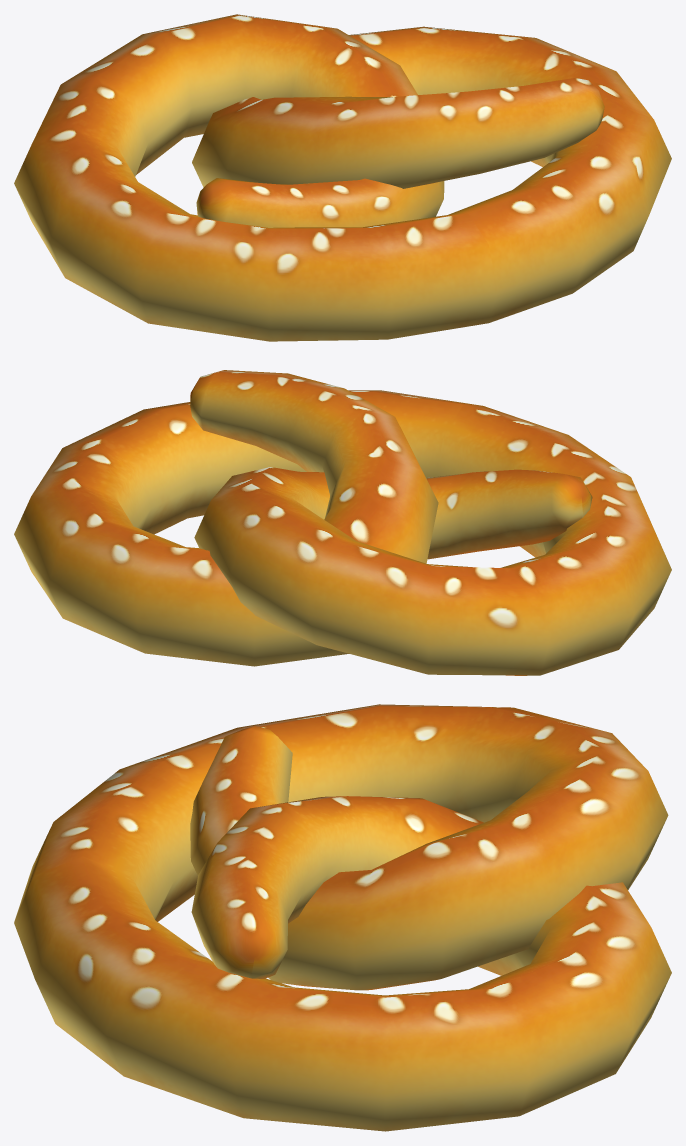
Rendered from Pretzel_01.fbx.
The picture shows the model from 3 angles, top to bottom: view 1: azimuth 30°, elevation 25°; view 2: azimuth 150°, elevation 25°; view 3: azimuth 270°, elevation 25°; orthographic projection. The views are drawn at different scales.
Visible parts, largest first — view 1: Pretzel_01; view 2: Pretzel_01; view 3: Pretzel_01.
Part boxes in pixels (x1,y1,x2,y2): Pretzel_01: (14,14,671,341); Pretzel_01: (14,370,671,675); Pretzel_01: (14,704,671,1131).
Size of the model in its own units: 69.95 by 18.83 by 56.97.
